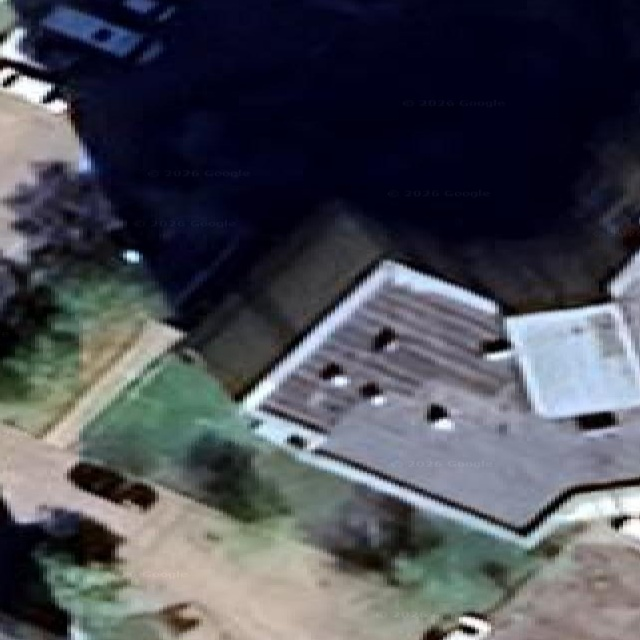car: (422, 612, 491, 639)
